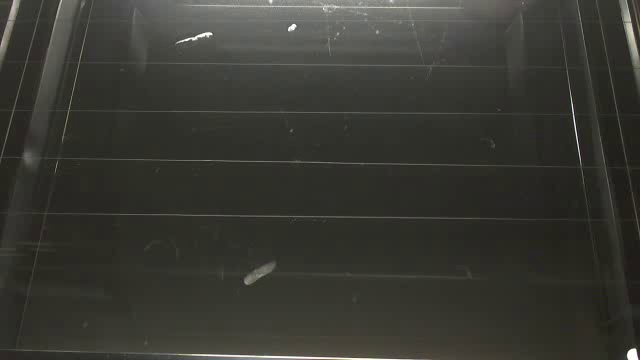Alfa: (242, 259, 277, 286), (175, 30, 216, 46), (286, 21, 298, 33)
